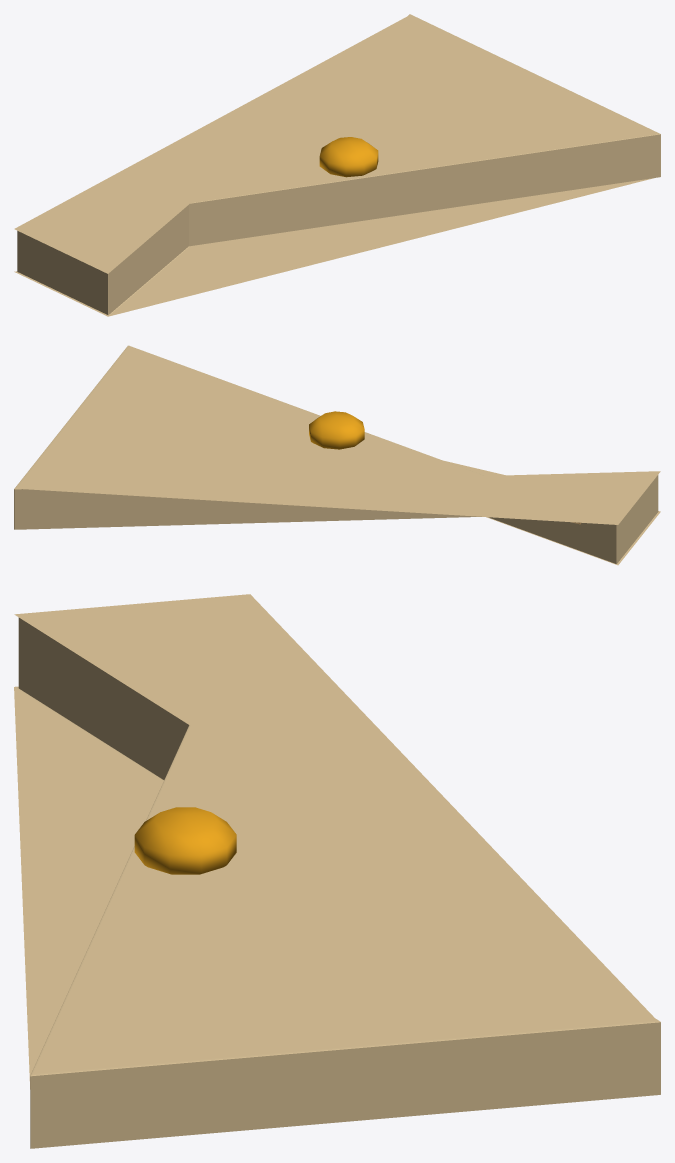
The model's file is lindenspan.glb.
The picture shows the model from 3 angles, top to bottom: view 1: azimuth 30°, elevation 25°; view 2: azimuth 150°, elevation 25°; view 3: azimuth 270°, elevation 25°; orthographic projection. The views are drawn at different scales.
Visible parts, largest first — view 1: Cube; view 2: Cube; view 3: Cube.
Part boxes in pixels (left/top/right/bottom): Cube: left=14, top=14, right=660, bottom=316; Cube: left=14, top=345, right=660, bottom=565; Cube: left=14, top=594, right=660, bottom=1148.
Size of the model in its own units: 0.1705 by 0.0188 by 0.0966.
